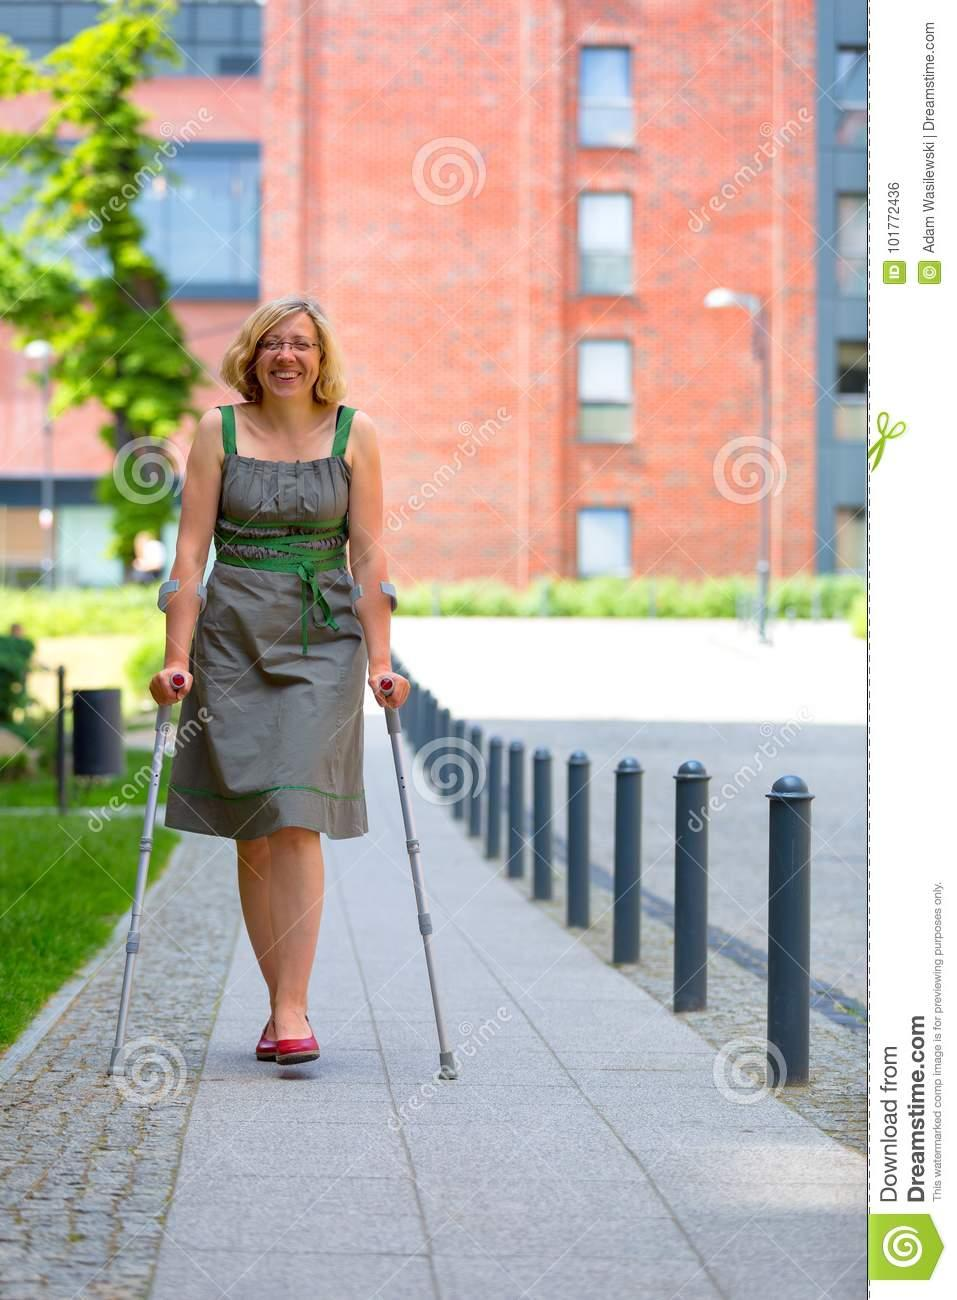crutches: (105, 295, 459, 1081)
